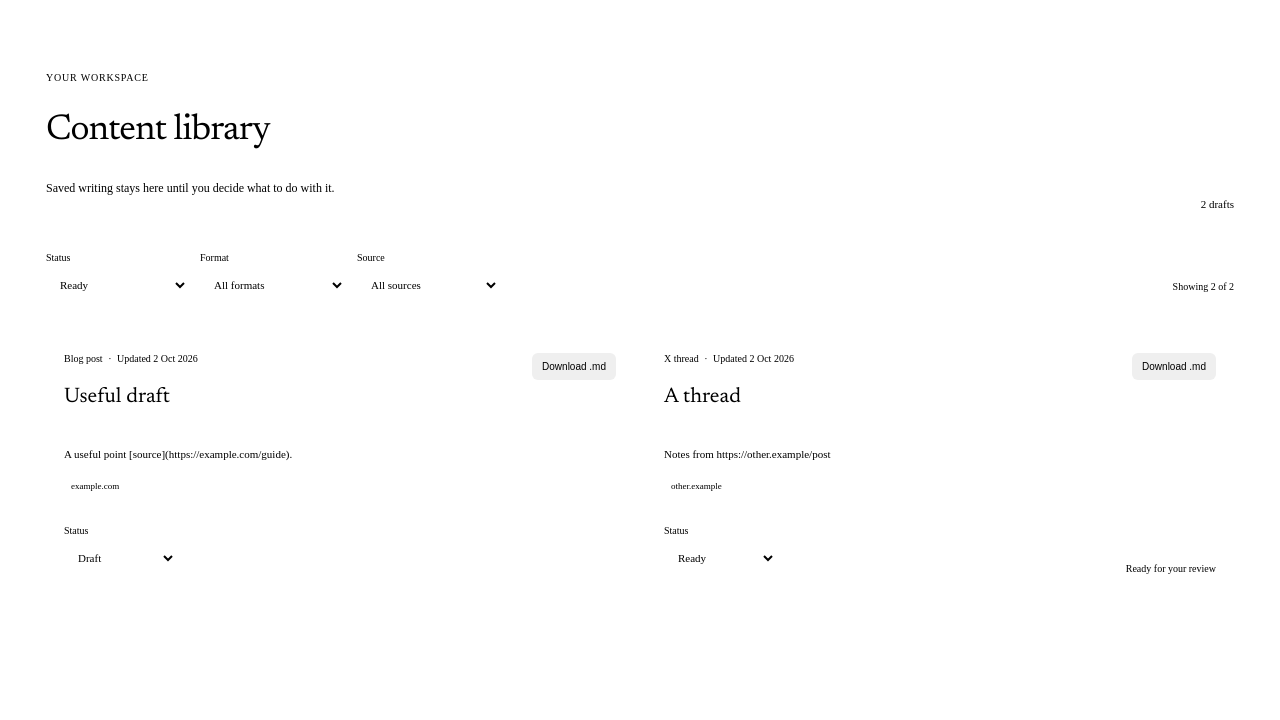
Test case: ContentLibrary component › filters by status, format, and source and shows the no-match state
The width and height of the screenshot is (1280, 720).
Select "Ready" in the dropdown labelled "Status" in the row of "Showing" at point(117, 285), box [46, 269, 188, 301]
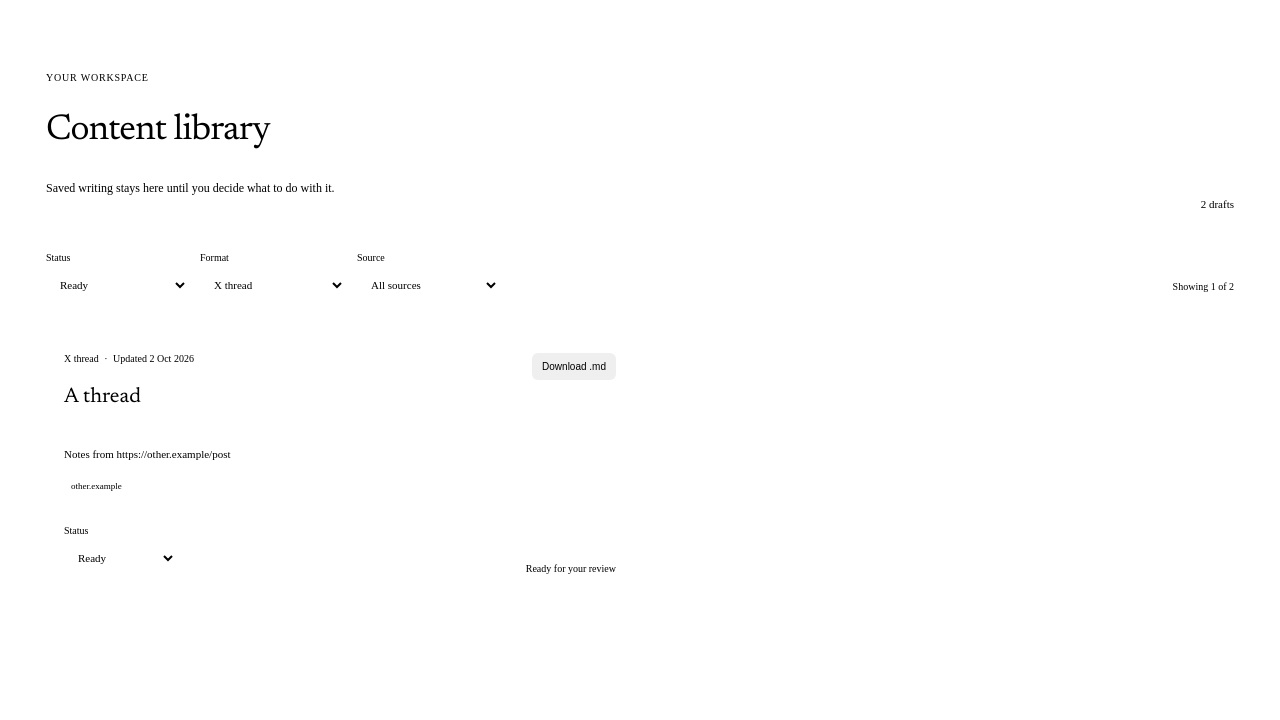
Select "X thread" in the dropdown labelled "Format" at point(272, 285), box [200, 269, 345, 301]
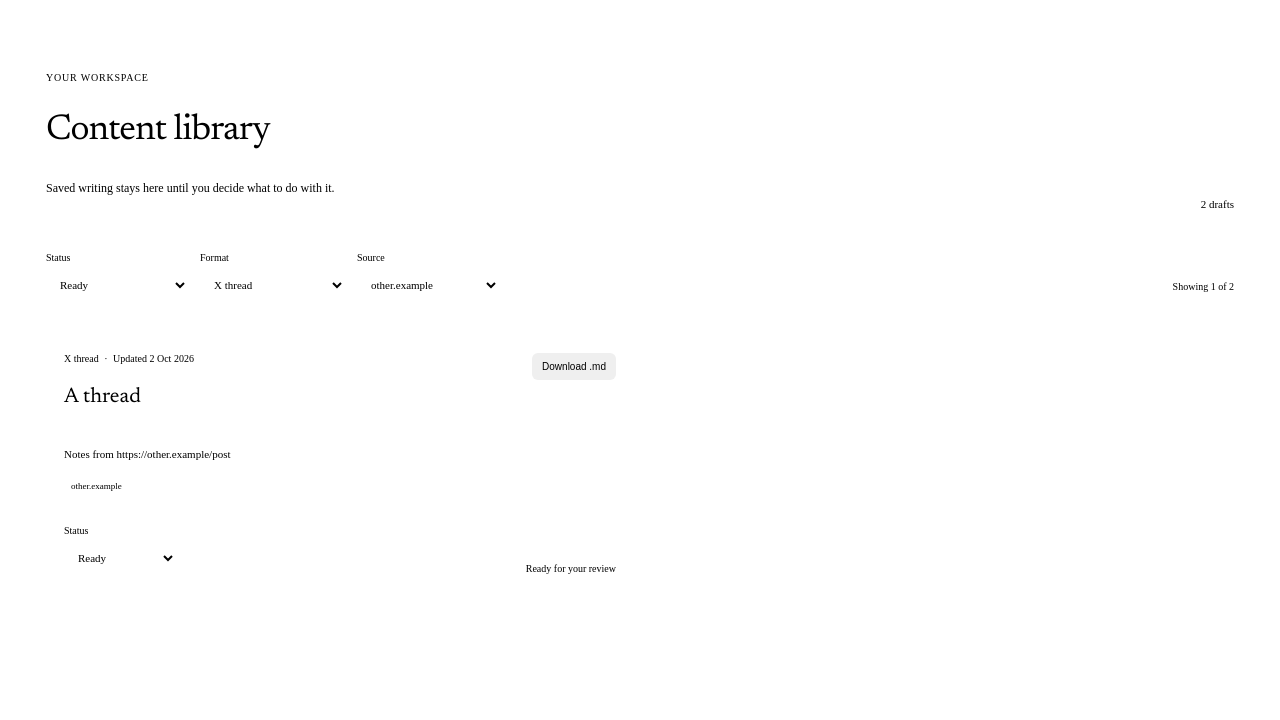
Select "other.example" in the dropdown labelled "Source" at point(428, 285), box [357, 269, 499, 301]
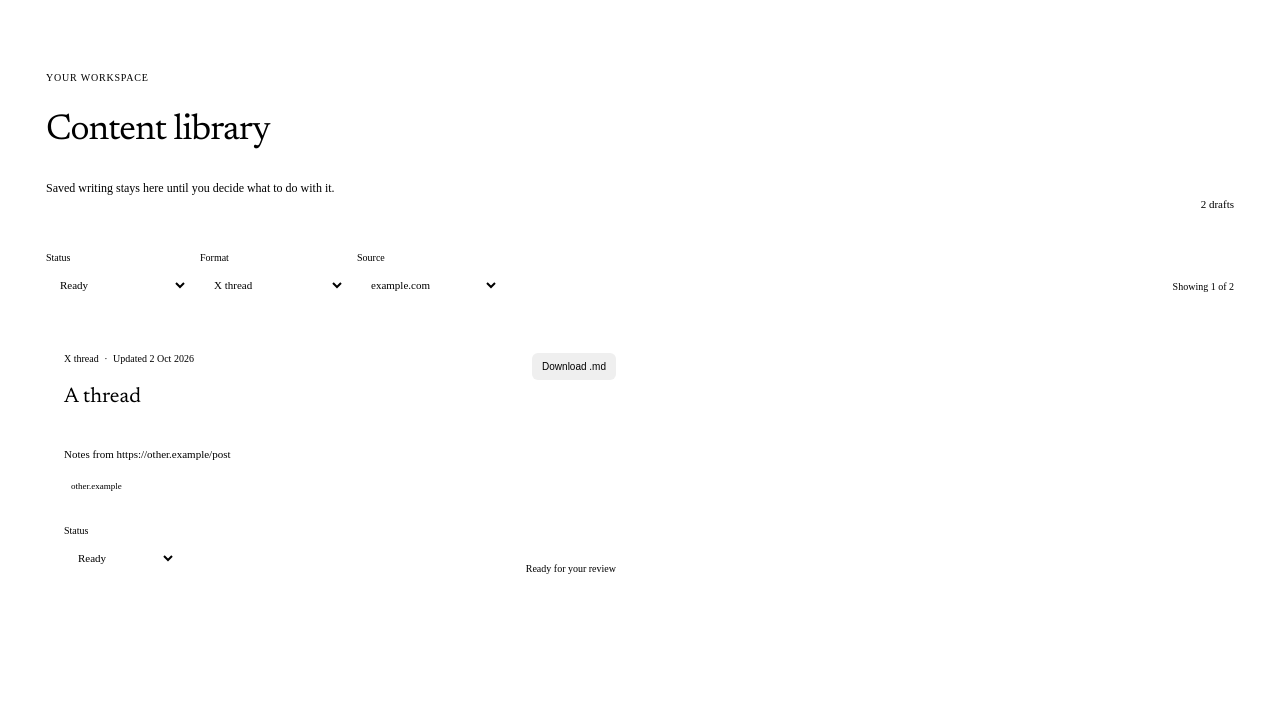
Expected: the text "A thread" is shown, [64, 387, 141, 408]
Now the text "Showing 1 of 2" is shown, box [1173, 281, 1234, 292]
Select "example.com" in the dropdown labelled "Source" at point(428, 285), box [357, 269, 499, 301]
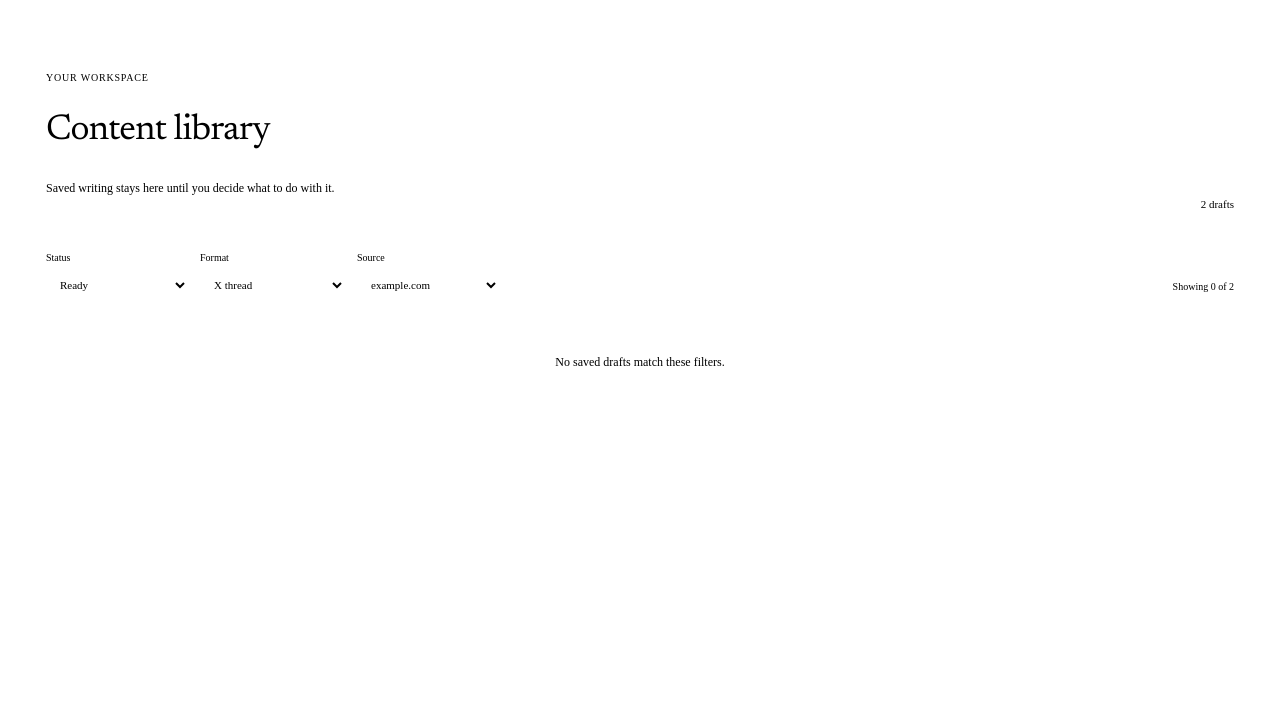
Now the text "No saved drafts match these filters." is shown, box [555, 355, 725, 369]
